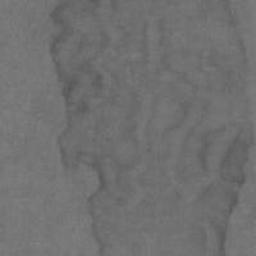Water spot: (47, 0, 255, 256)
